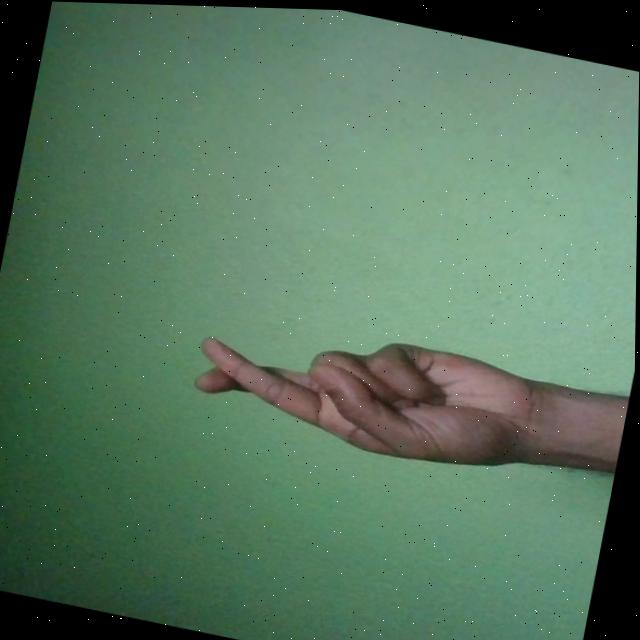Good Luck: (188, 300, 551, 480)
